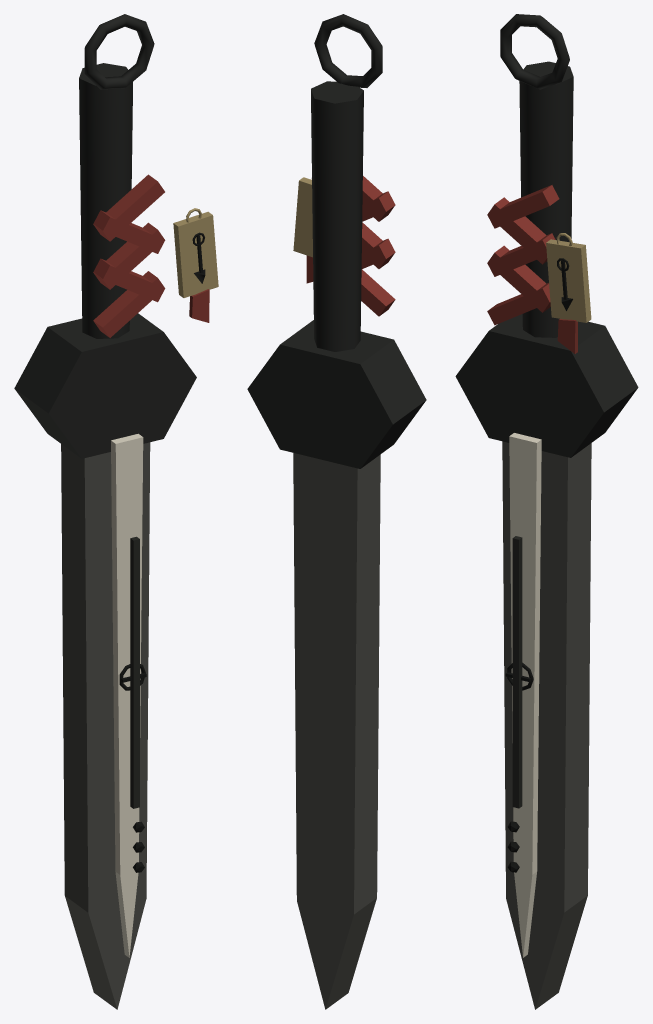
The model's file is fantasy-faceted-needle-dagger-v1.glb.
3 renders of one model, left to right at view 1: azimuth 30°, elevation 25°; view 2: azimuth 150°, elevation 25°; view 3: azimuth 330°, elevation 25°, orthographic. The views are drawn at different scales.
Visible parts, largest first — view 1: Needle Dagger; view 2: Needle Dagger; view 3: Needle Dagger.
Part boxes in pixels (box(x1,y1,x2,y2)): Needle Dagger: box(14, 14, 218, 1009); Needle Dagger: box(247, 14, 426, 1009); Needle Dagger: box(455, 14, 638, 1009).
Bounding box in the file's own units: 0.8102 × 5.12 × 0.5569.
